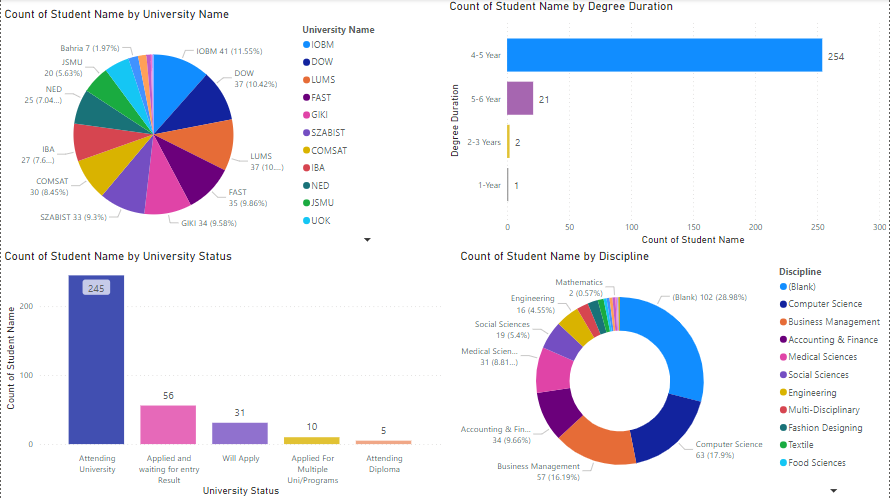

The dashboard page shown, as its layout file describes it:
{"tool":"powerbi","page":{"name":"Undergrad","canvas":[1280,720],"ordinal":3},"visuals":[{"type":"barChart","fields":{"Category":["Sheet1.Degree Duration"],"Y":["Count(Sheet1.Student Name)"]},"box":[640.7,0,639.3,359.5],"z":0},{"type":"pieChart","fields":{"Category":["Sheet1.University Name "],"Y":["Count(Sheet1.Student Name)"]},"box":[0,11.5,623.7,347.8],"z":1000},{"type":"lineStackedColumnComboChart","fields":{"Category":["Sheet1.University Status"],"Y":["Count(Sheet1.Student Name)"]},"box":[0,359.3,639.5,360.7],"z":2000},{"type":"donutChart","fields":{"Y":["Count(Sheet1.Student Name)"],"Category":["Sheet1.Discipline"]},"box":[656.8,359.3,623.7,360.7],"z":3000}]}

Visuals, with their boxes in screenshot pixels (x1, y1, x2, y2), scaled from the page's 1280x720 canvas onto the 890x499 screenshot:
barChart - Sheet1.Degree Duration x Count(Sheet1.Student Name): x1=445, y1=0, x2=889, y2=249
pieChart - Sheet1.University Name  x Count(Sheet1.Student Name): x1=0, y1=8, x2=434, y2=249
lineStackedColumnComboChart - Sheet1.University Status x Count(Sheet1.Student Name): x1=0, y1=249, x2=445, y2=498
donutChart - Count(Sheet1.Student Name) x Sheet1.Discipline: x1=457, y1=249, x2=889, y2=498
